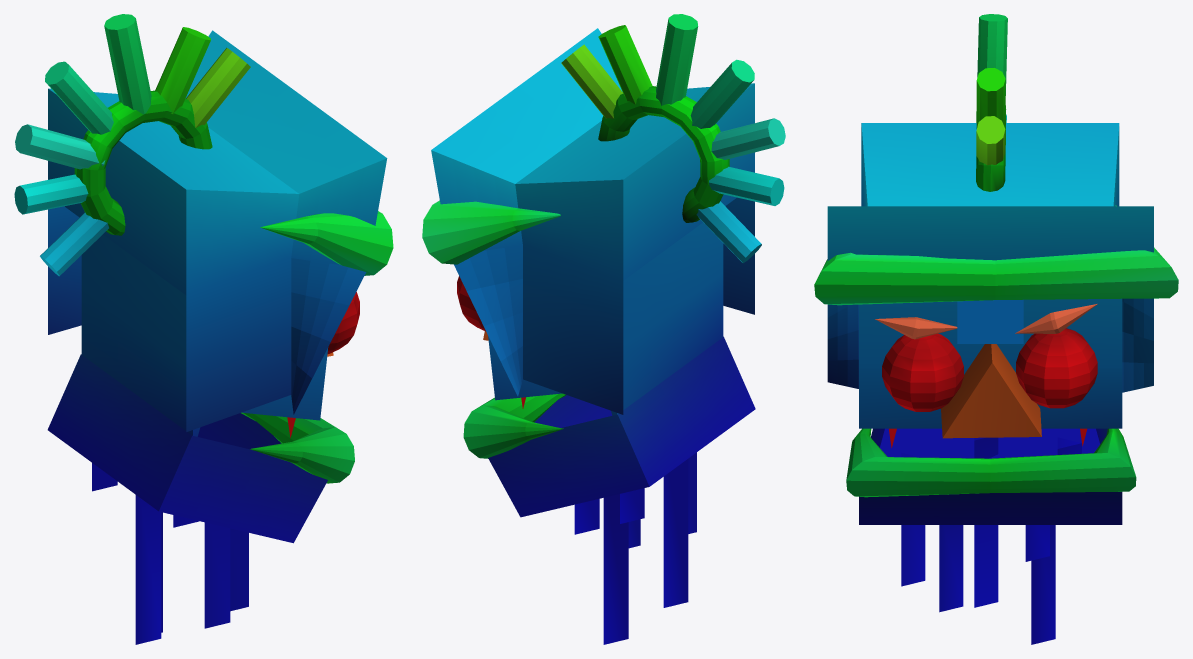
File: xamã sparta ultron cenario 02.fbx
3 views of the same model, side by side, from view 1: azimuth 30°, elevation 25°; view 2: azimuth 150°, elevation 25°; view 3: azimuth 270°, elevation 25° (orthographic). The views are drawn at different scales.
Parts seen in each view (by area): view 1: Cube; view 2: Cube; view 3: Cube.
Part boxes in pixels (box(x1,y1,x2,y2)): Cube: box(14, 14, 393, 644); Cube: box(422, 14, 785, 644); Cube: box(814, 14, 1178, 644).
Size of the model in its own units: 1.94 by 3.99 by 2.19.
